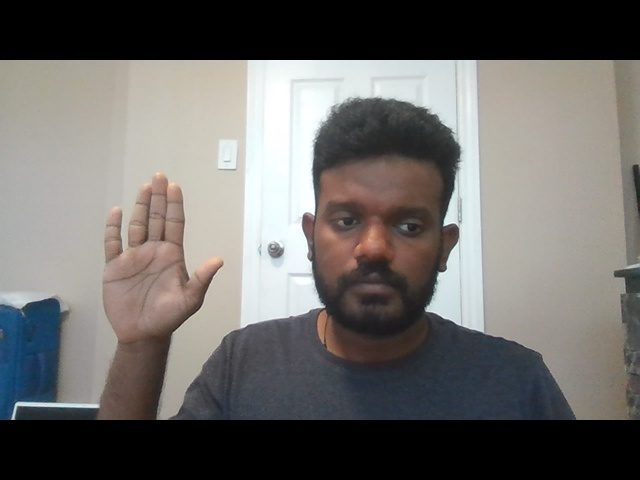hello: (97, 167, 226, 340)
